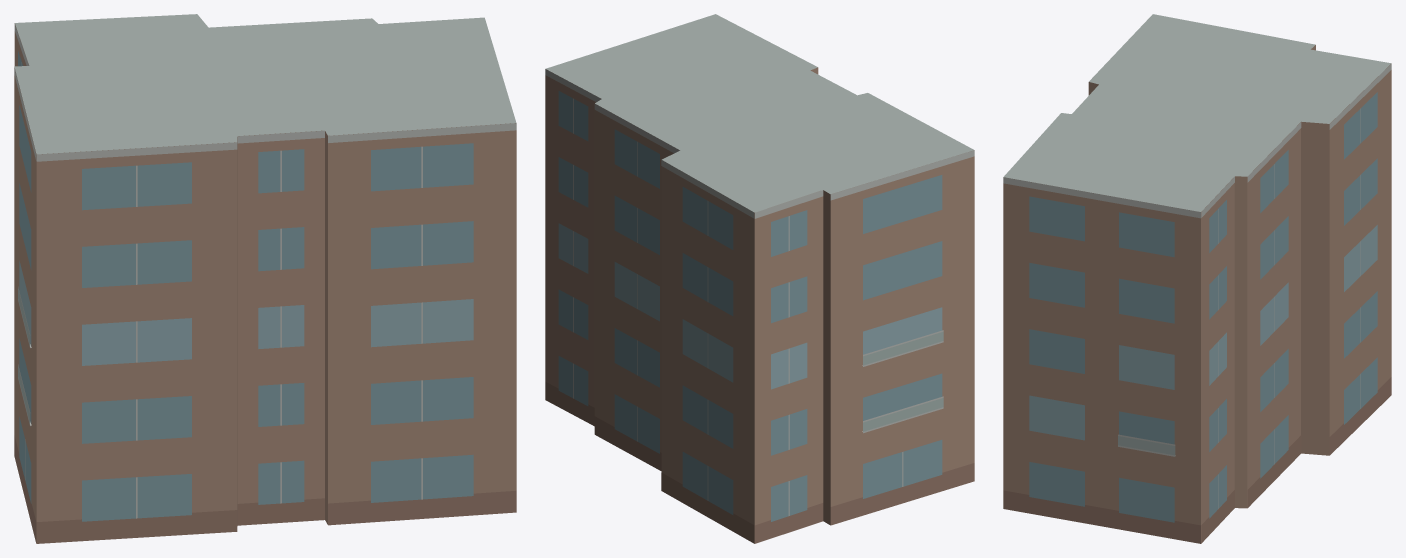
Rendered from survey-upis-32515887.glb.
The picture shows the model from 3 angles, left to right: view 1: azimuth 30°, elevation 25°; view 2: azimuth 150°, elevation 25°; view 3: azimuth 270°, elevation 25°; orthographic projection. The views are drawn at different scales.
Parts seen in each view (by area): view 1: survey-upis-32515887.tmp; view 2: survey-upis-32515887.tmp; view 3: survey-upis-32515887.tmp.
Boxes of the visible parts, x1=… form: survey-upis-32515887.tmp: x1=14, y1=14, x2=516, y2=543; survey-upis-32515887.tmp: x1=545, y1=14, x2=974, y2=543; survey-upis-32515887.tmp: x1=1003, y1=14, x2=1391, y2=543.
Bounding box in the file's own units: 16.53 × 12.9 × 13.7.
